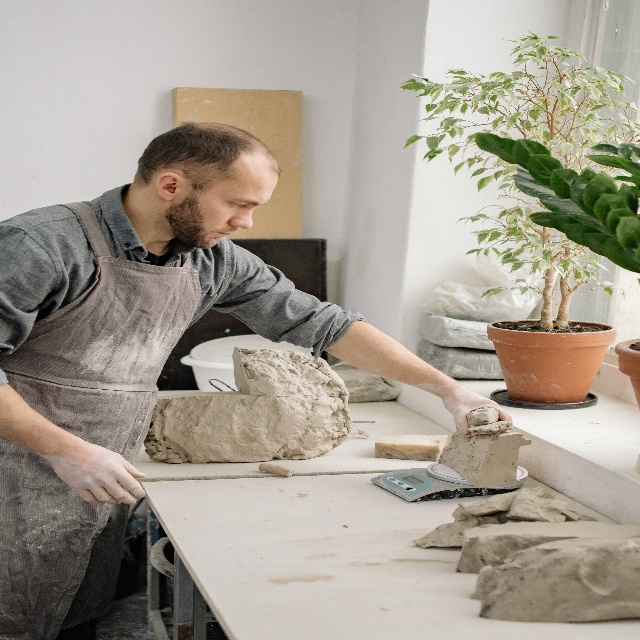Sin_guantes: (50, 436, 147, 505), (441, 380, 513, 435)
